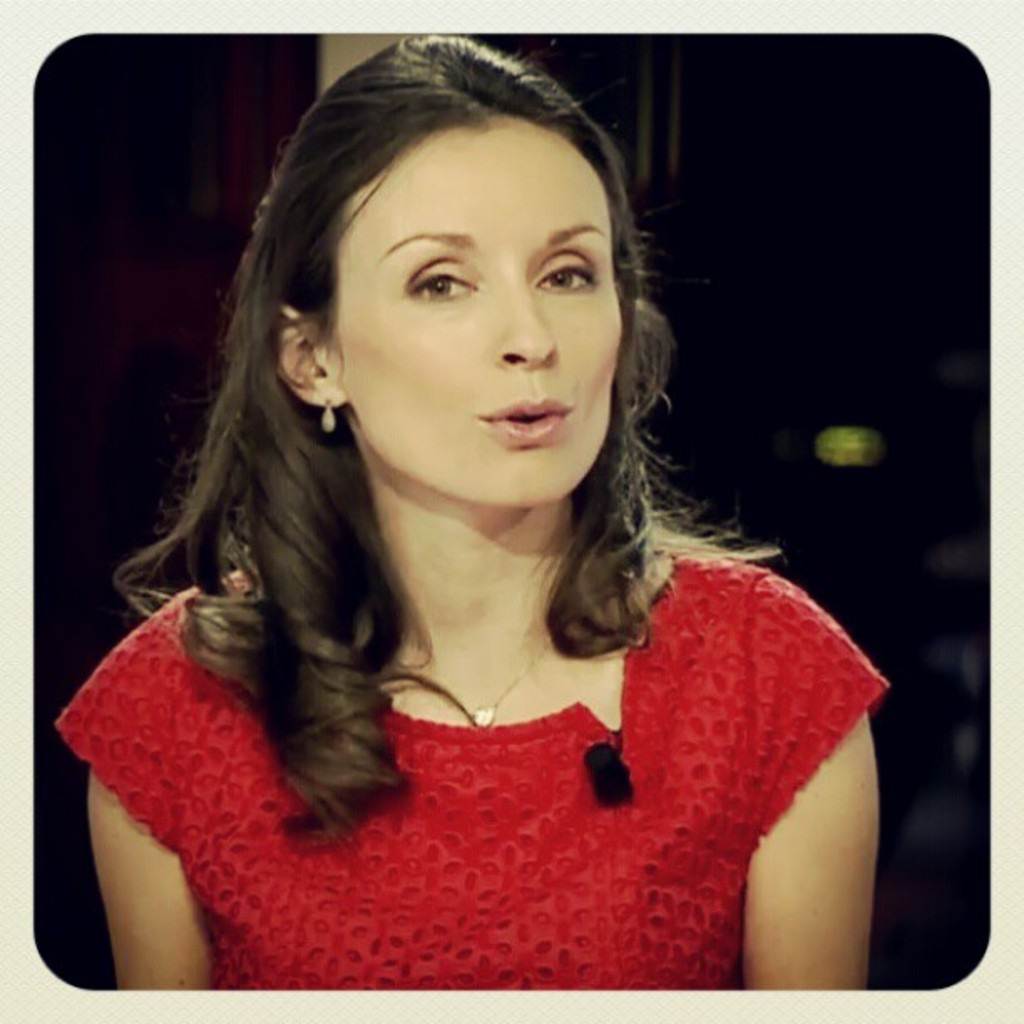Human-face: (343, 114, 631, 510)
